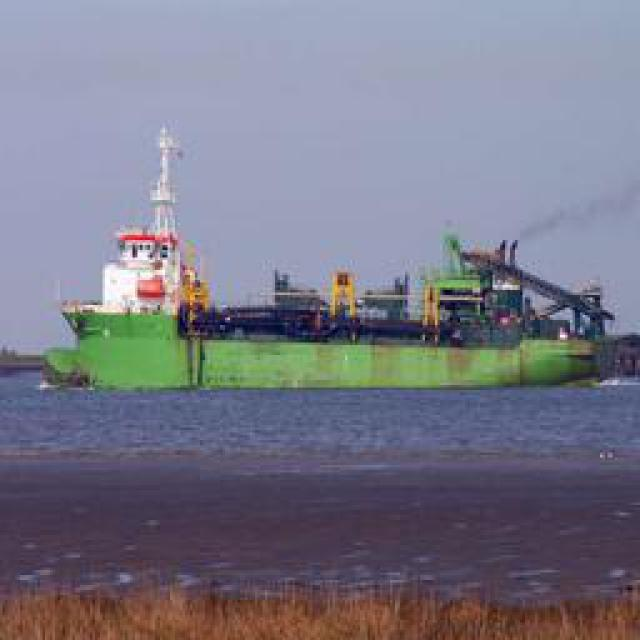Ship: (30, 123, 614, 403)
